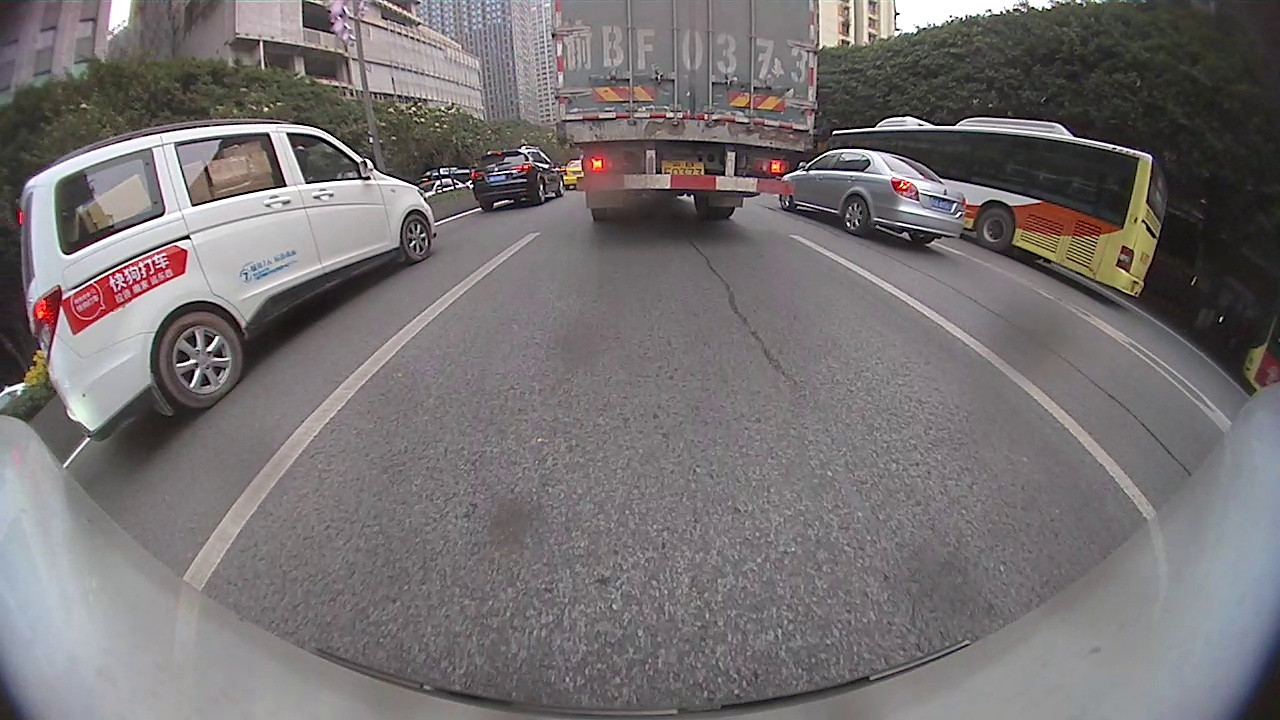bus: (828, 113, 1165, 298)
car: (16, 119, 440, 445), (781, 148, 966, 246), (472, 145, 567, 208)
front: (399, 213, 434, 264), (782, 196, 797, 213)
rear: (152, 310, 248, 413), (974, 205, 1017, 254), (839, 193, 873, 237)
truck: (551, 0, 818, 224)
